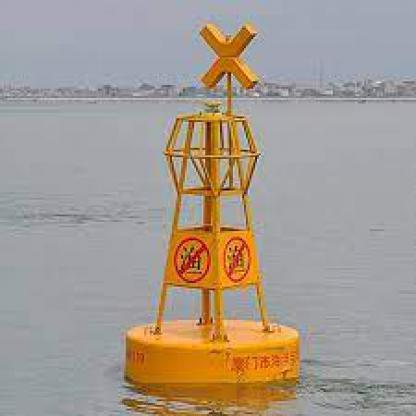buoy: (115, 22, 309, 390)
